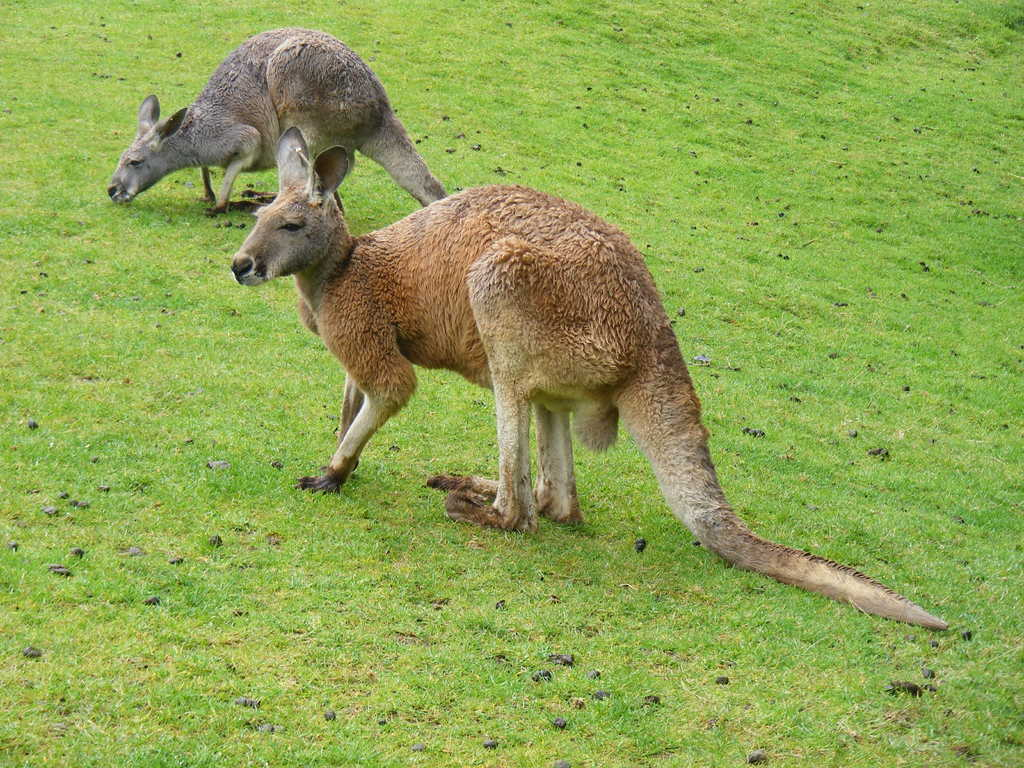kangaroo: (231, 127, 949, 632)
